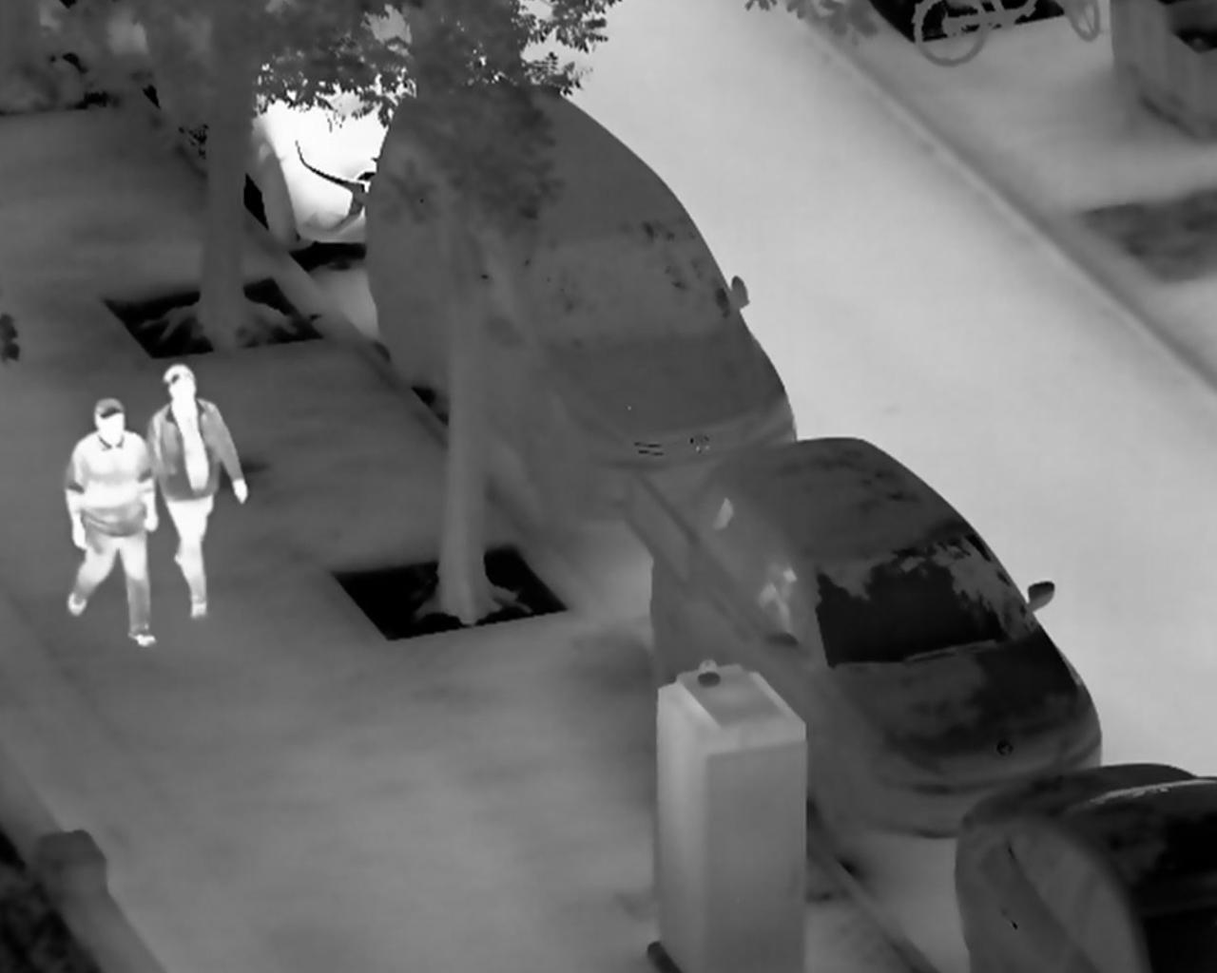person: (148, 362, 253, 624), (62, 394, 160, 651)
